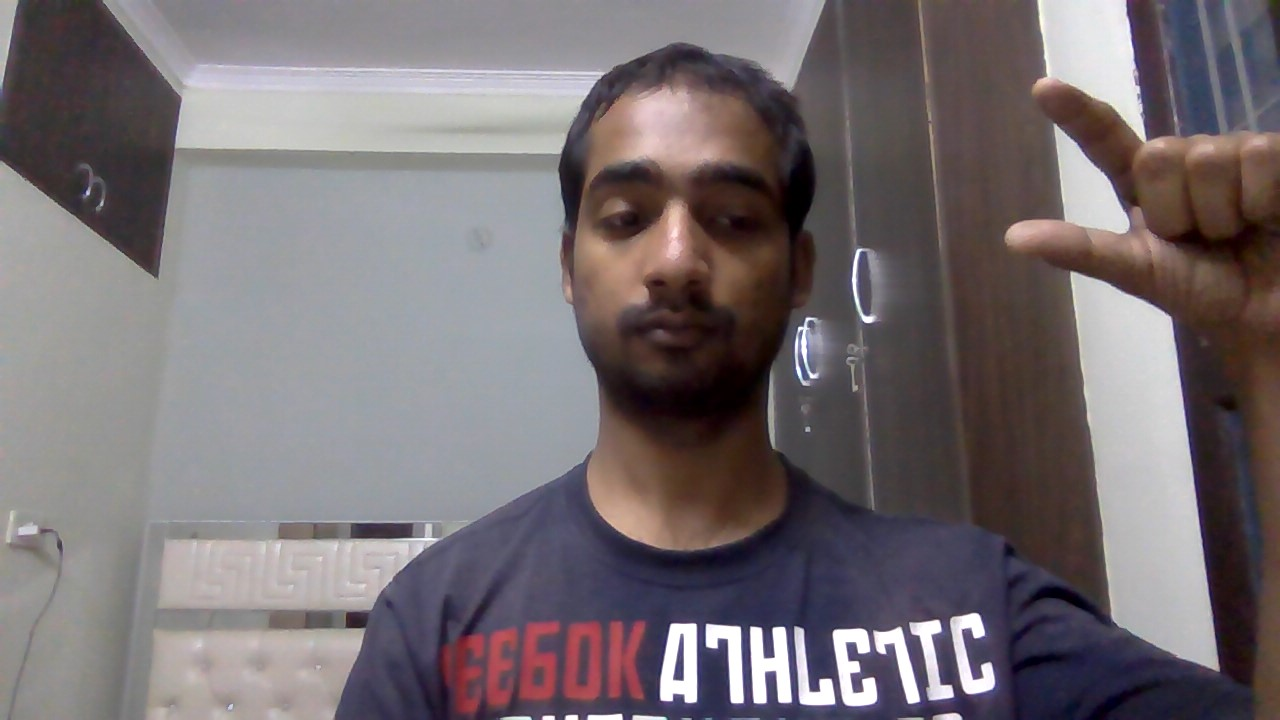Paste: (996, 54, 1280, 358)
